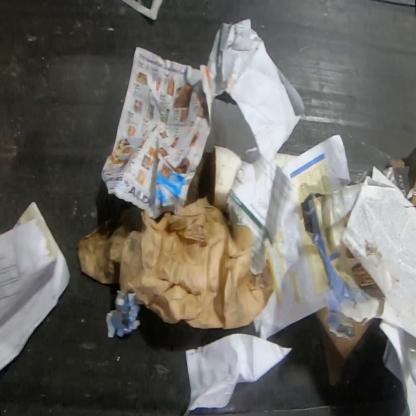cardboard: (315, 305, 376, 387), (210, 145, 242, 222)
